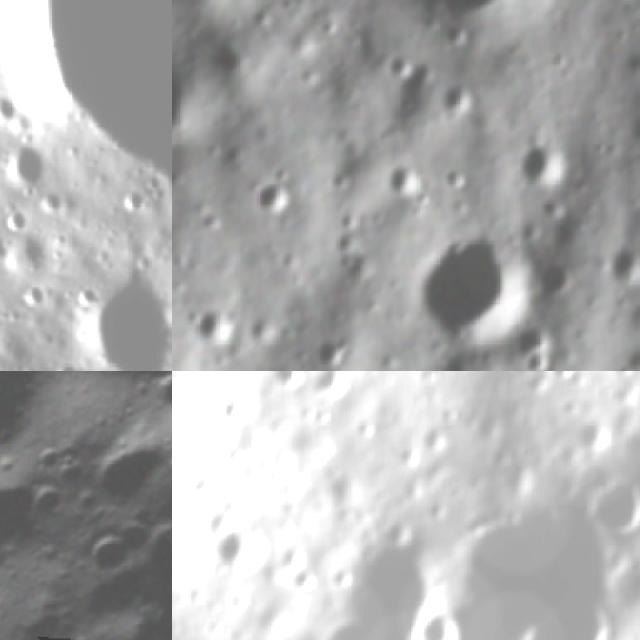crater: (437, 513, 613, 640), (421, 222, 535, 350), (66, 413, 172, 522), (316, 534, 423, 640), (76, 270, 172, 371), (392, 0, 549, 53), (7, 461, 82, 536), (73, 521, 142, 590), (584, 471, 640, 537), (531, 597, 611, 640), (212, 516, 263, 577), (24, 432, 78, 488), (0, 136, 50, 196), (520, 128, 570, 188), (172, 56, 202, 151), (243, 174, 290, 226), (134, 371, 172, 430), (377, 156, 418, 210), (193, 301, 239, 348), (600, 245, 640, 285), (538, 255, 577, 296), (149, 431, 172, 500), (441, 79, 477, 122), (418, 602, 455, 640), (303, 371, 354, 397), (573, 418, 610, 448), (211, 393, 246, 422), (257, 371, 303, 391), (620, 106, 640, 146), (0, 84, 16, 130), (620, 425, 640, 454), (543, 371, 574, 379)
